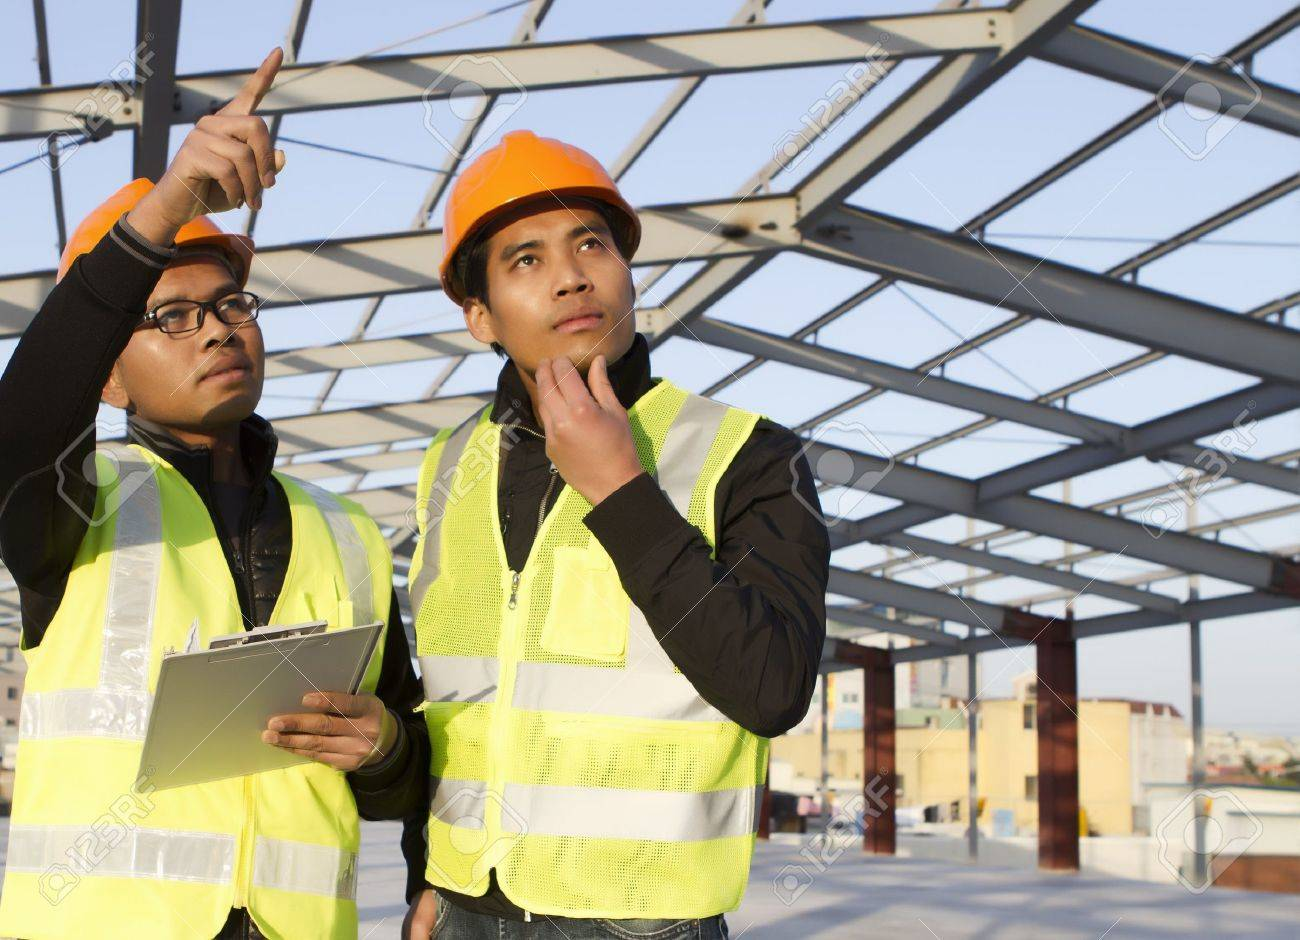casco: (438, 129, 644, 310), (55, 177, 256, 290)
